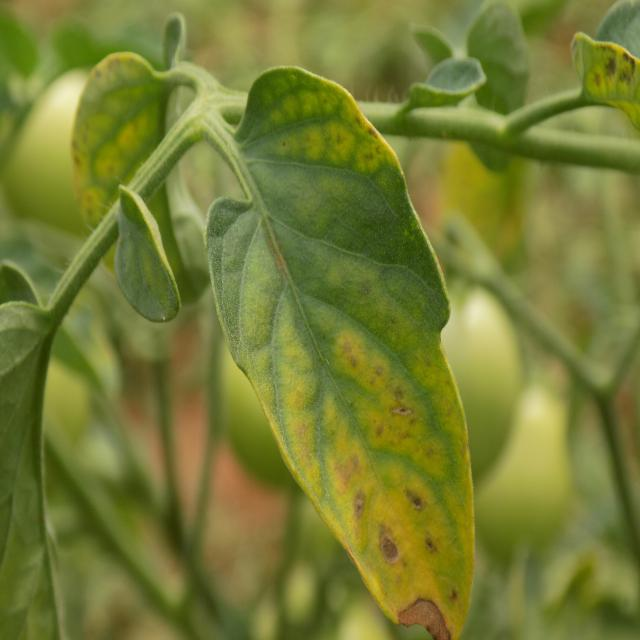tomato_early blight: (202, 65, 476, 631), (66, 50, 182, 323), (569, 0, 640, 124)
